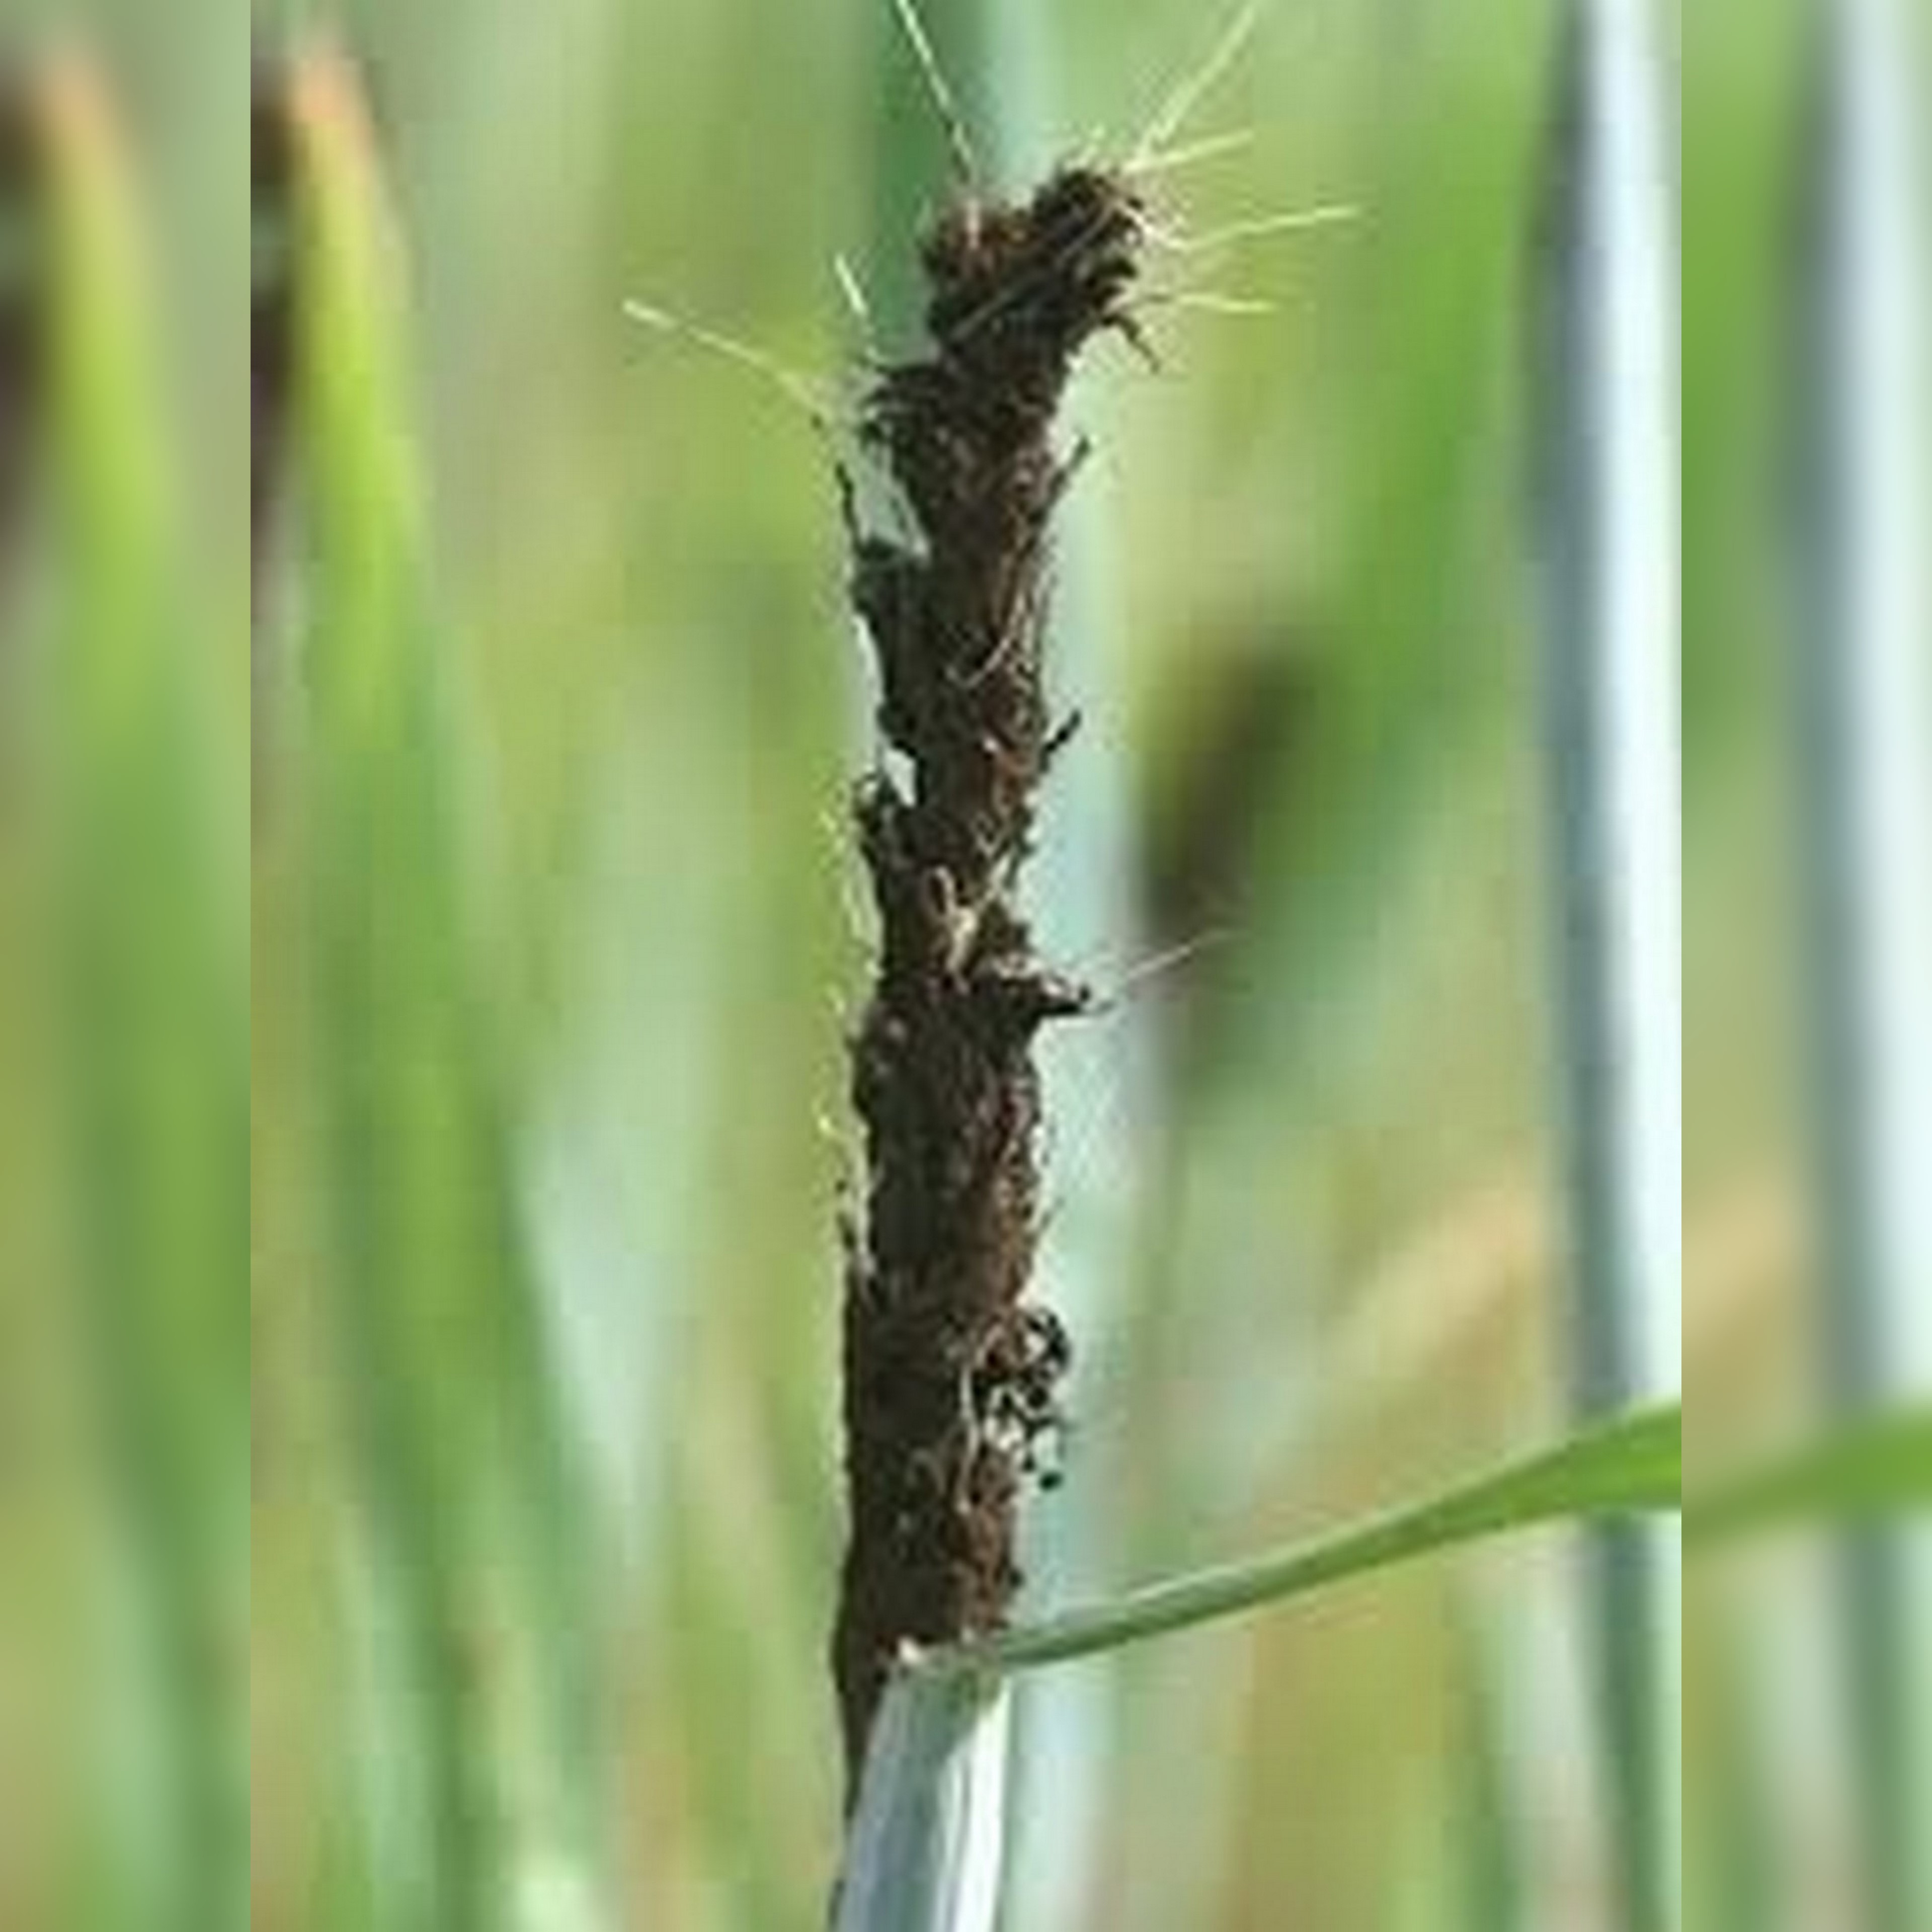Wheat Loose Smut: (778, 142, 1169, 1628)
